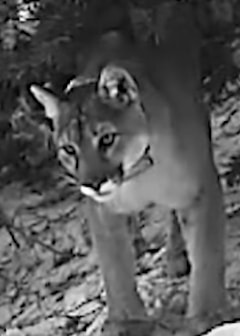Mountain Lion: (19, 33, 233, 332)
